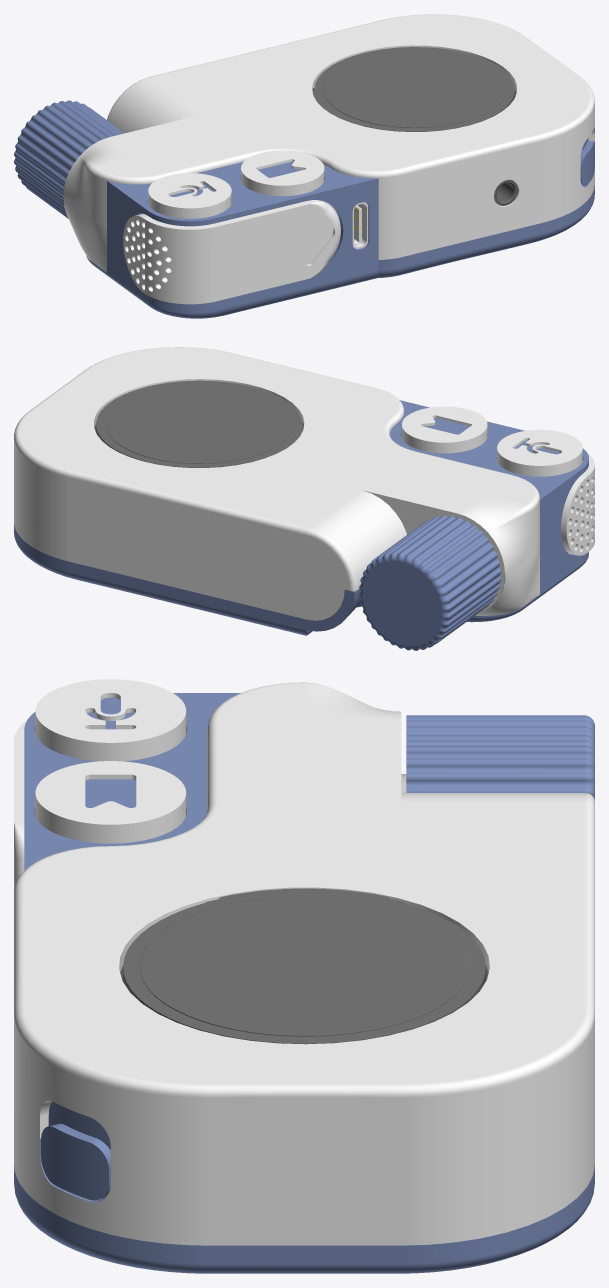
The model's file is audiobook_model.glb.
3 views of the same model, one above another, from view 1: azimuth 30°, elevation 25°; view 2: azimuth 150°, elevation 25°; view 3: azimuth 270°, elevation 25° (orthographic). The views are drawn at different scales.
Visible parts, largest first — view 1: front_face, Back_Button, Body45, Body2.005, Buttonshell, knob, Save_button__1_, Save_button, Body1.016, on_off_switch, Body1, Body4.003; view 2: front_face, knob, Body2.005, Body45, Buttonshell, Save_button__1_, Save_button, Body1.016, Back_Button; view 3: front_face, Body2.005, Body45, knob, Save_button__1_, Save_button, Body1.016, Buttonshell, on_off_switch, Back_Button.
Part boxes in pixels (<box>): front_face: <box>63,14,594,259</box>; Back_Button: <box>123,200,340,304</box>; Body45: <box>63,167,594,318</box>; Body2.005: <box>323,50,505,127</box>; Buttonshell: <box>107,161,378,235</box>; knob: <box>14,100,124,218</box>; Save_button__1_: <box>241,150,324,196</box>; Save_button: <box>148,173,231,218</box>; Body1.016: <box>312,47,514,131</box>; on_off_switch: <box>580,138,594,185</box>; Body1: <box>494,179,518,205</box>; Body4.003: <box>352,202,368,248</box>; front_face: <box>14,347,539,620</box>; knob: <box>359,515,501,650</box>; Body2.005: <box>105,384,292,463</box>; Body45: <box>14,524,588,635</box>; Buttonshell: <box>390,400,588,544</box>; Save_button__1_: <box>402,406,487,453</box>; Save_button: <box>497,429,582,476</box>; Body1.016: <box>96,380,303,467</box>; Back_Button: <box>561,453,594,555</box>; front_face: <box>14,682,594,1245</box>; Body2.005: <box>139,896,469,1035</box>; Body45: <box>14,1126,594,1273</box>; knob: <box>406,715,594,800</box>; Save_button__1_: <box>35,761,186,843</box>; Save_button: <box>35,679,186,761</box>; Body1.016: <box>123,888,485,1044</box>; Buttonshell: <box>24,693,240,870</box>; on_off_switch: <box>41,1101,110,1200</box>; Back_Button: <box>14,720,26,891</box>.
Size of the model in its own units: 0.095 by 0.024 by 0.057.
